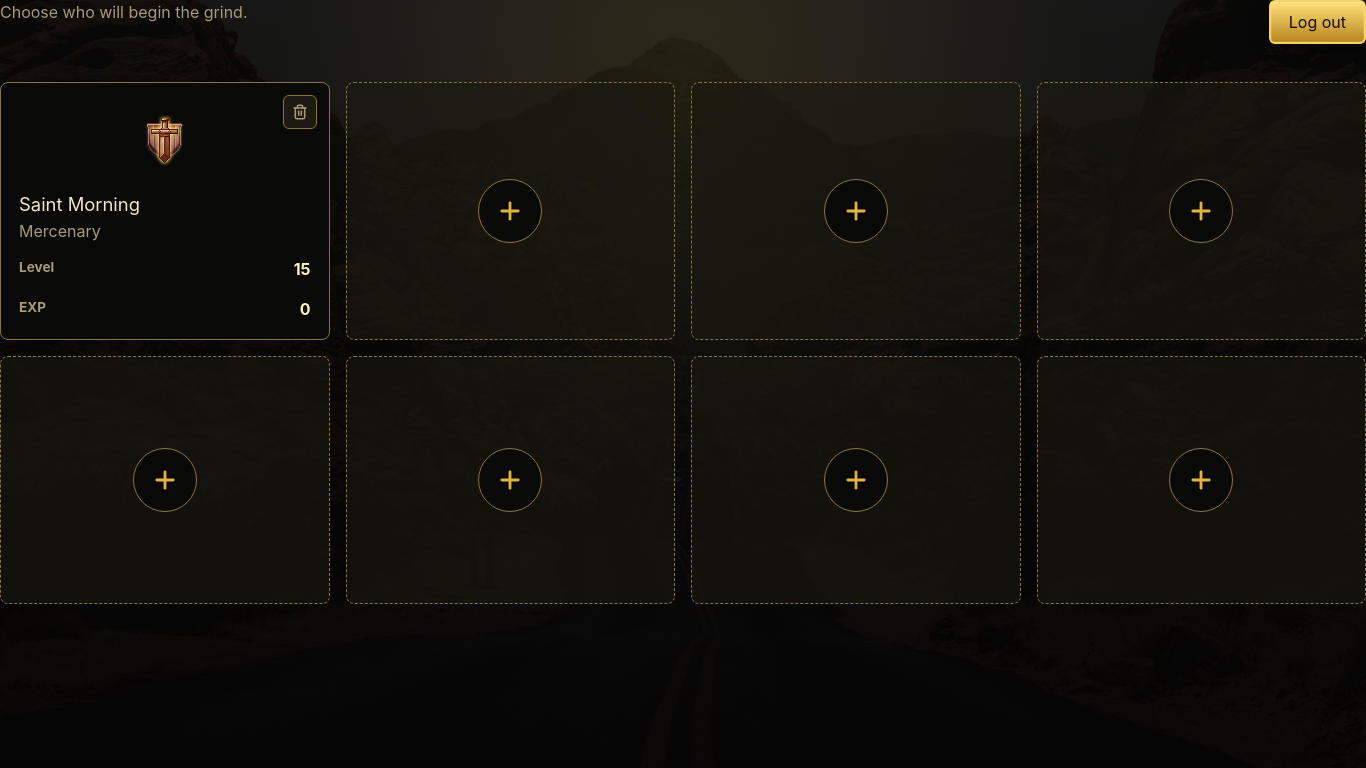
it: CharacterRoster › requires name confirmation before deleting a character
The width and height of the screenshot is (1366, 768).
Check: the heading "Saint Morning" is shown, box [19,193,140,215]
Click the button named "Delete Saint Morning". click: (300, 112)
box: [282,95,316,129]
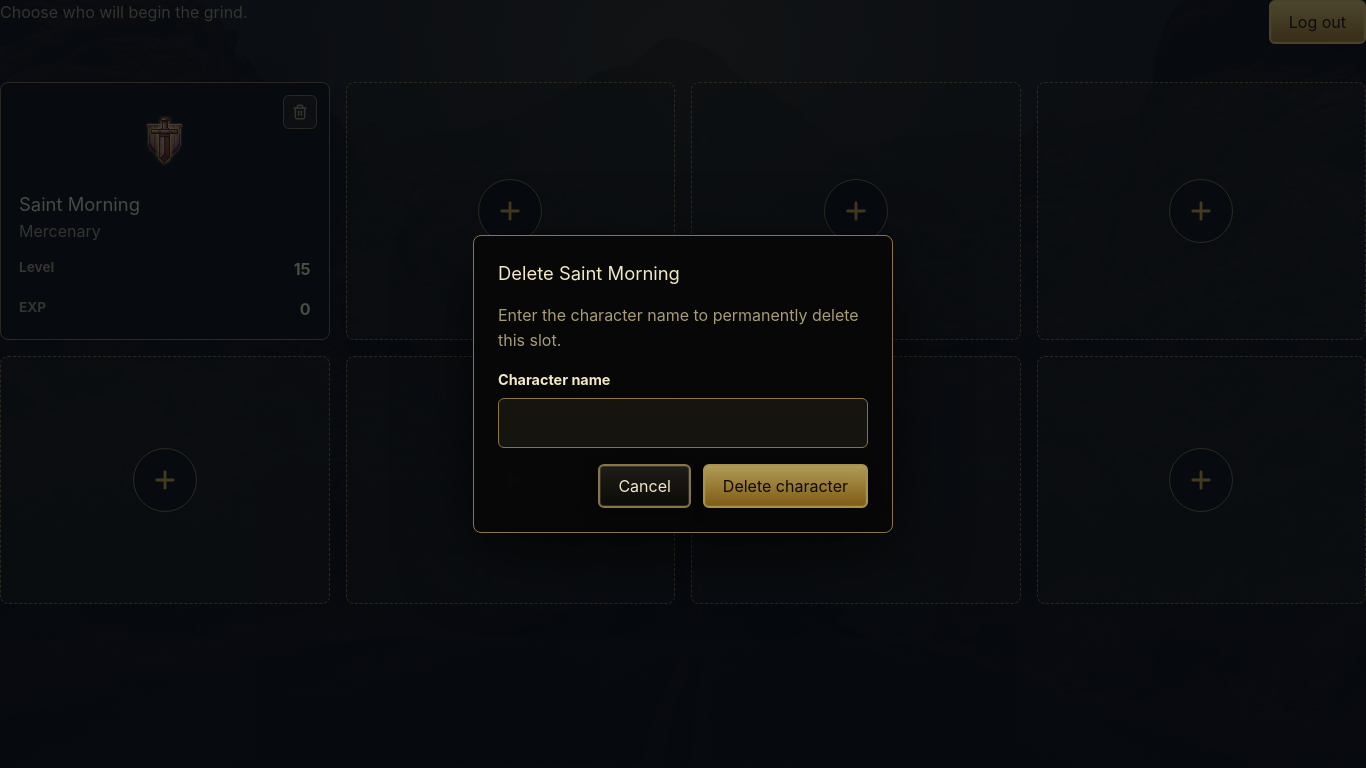
Check: the dialog "Delete Saint Morning" is shown, box [473,235,893,533]
Check: the button "Delete character" is disabled, box [703,464,868,508]
Type "Saint Morning" into the field labelled "Character name". click: (683, 423)
box: [498,398,868,448]
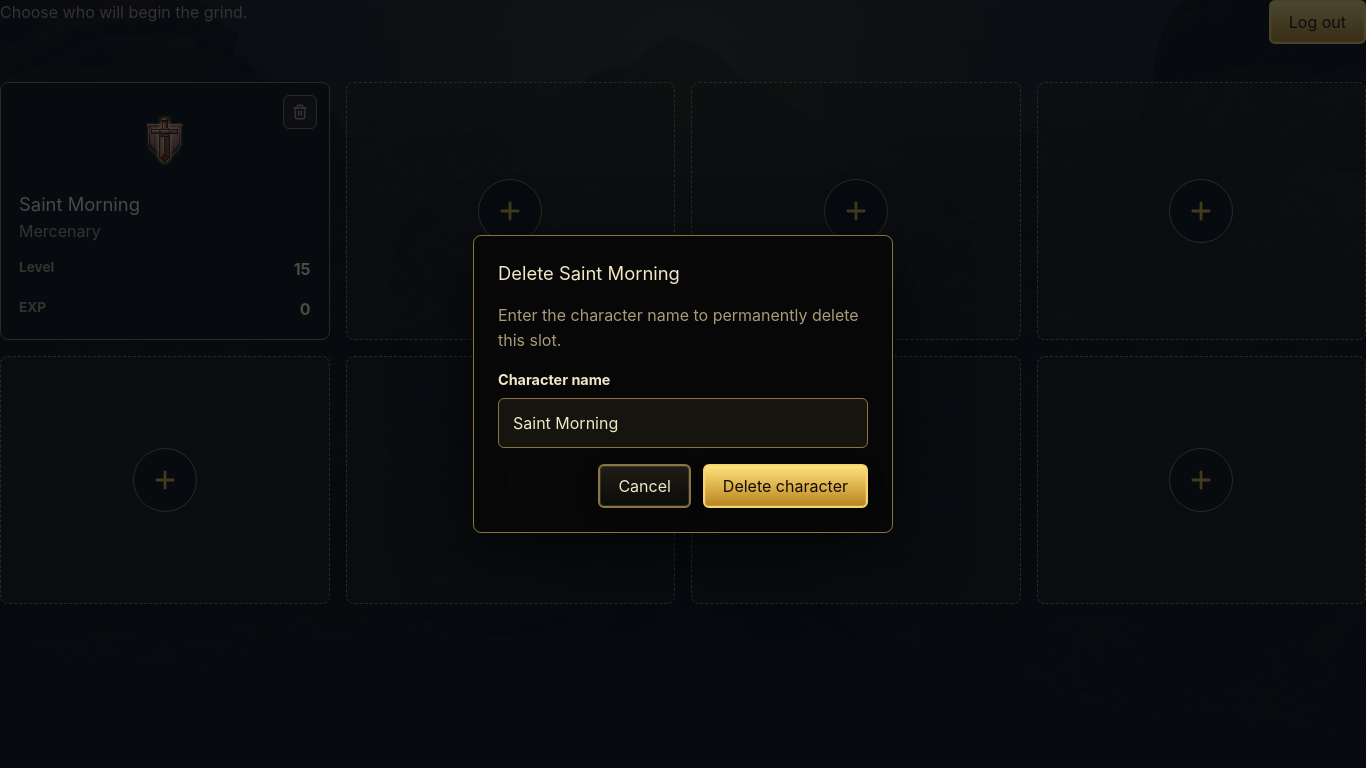
Click the button "Delete character". click: (785, 486)
box: [703,464,868,508]
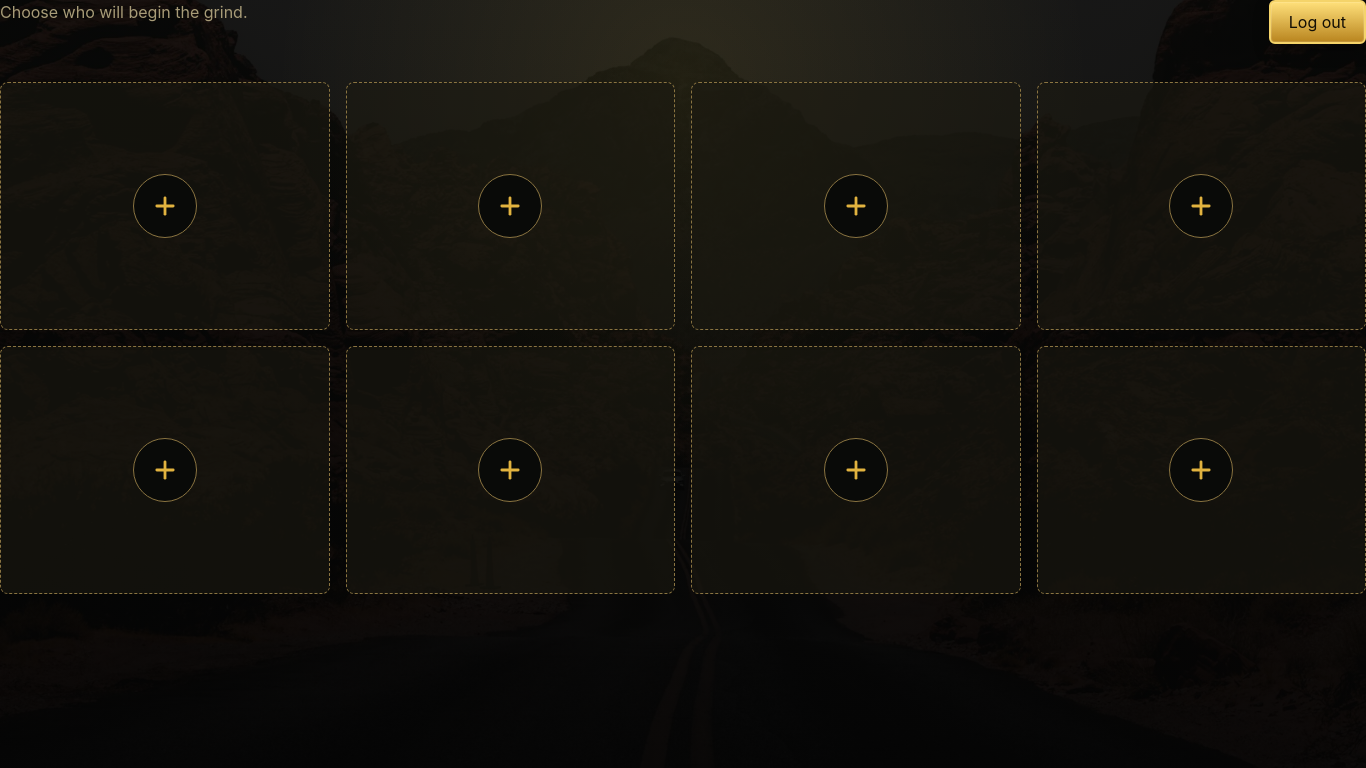
Check: the button "Saint Morning" is gone
Check: the button named "Create character in slot 1" is shown, box [133,174,197,238]
